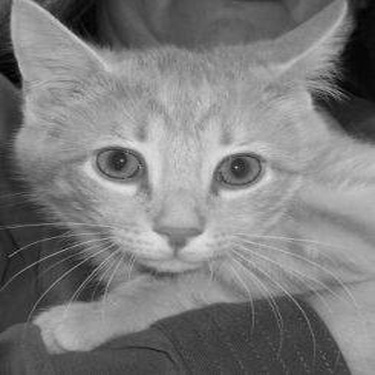cat: (13, 5, 372, 355)
